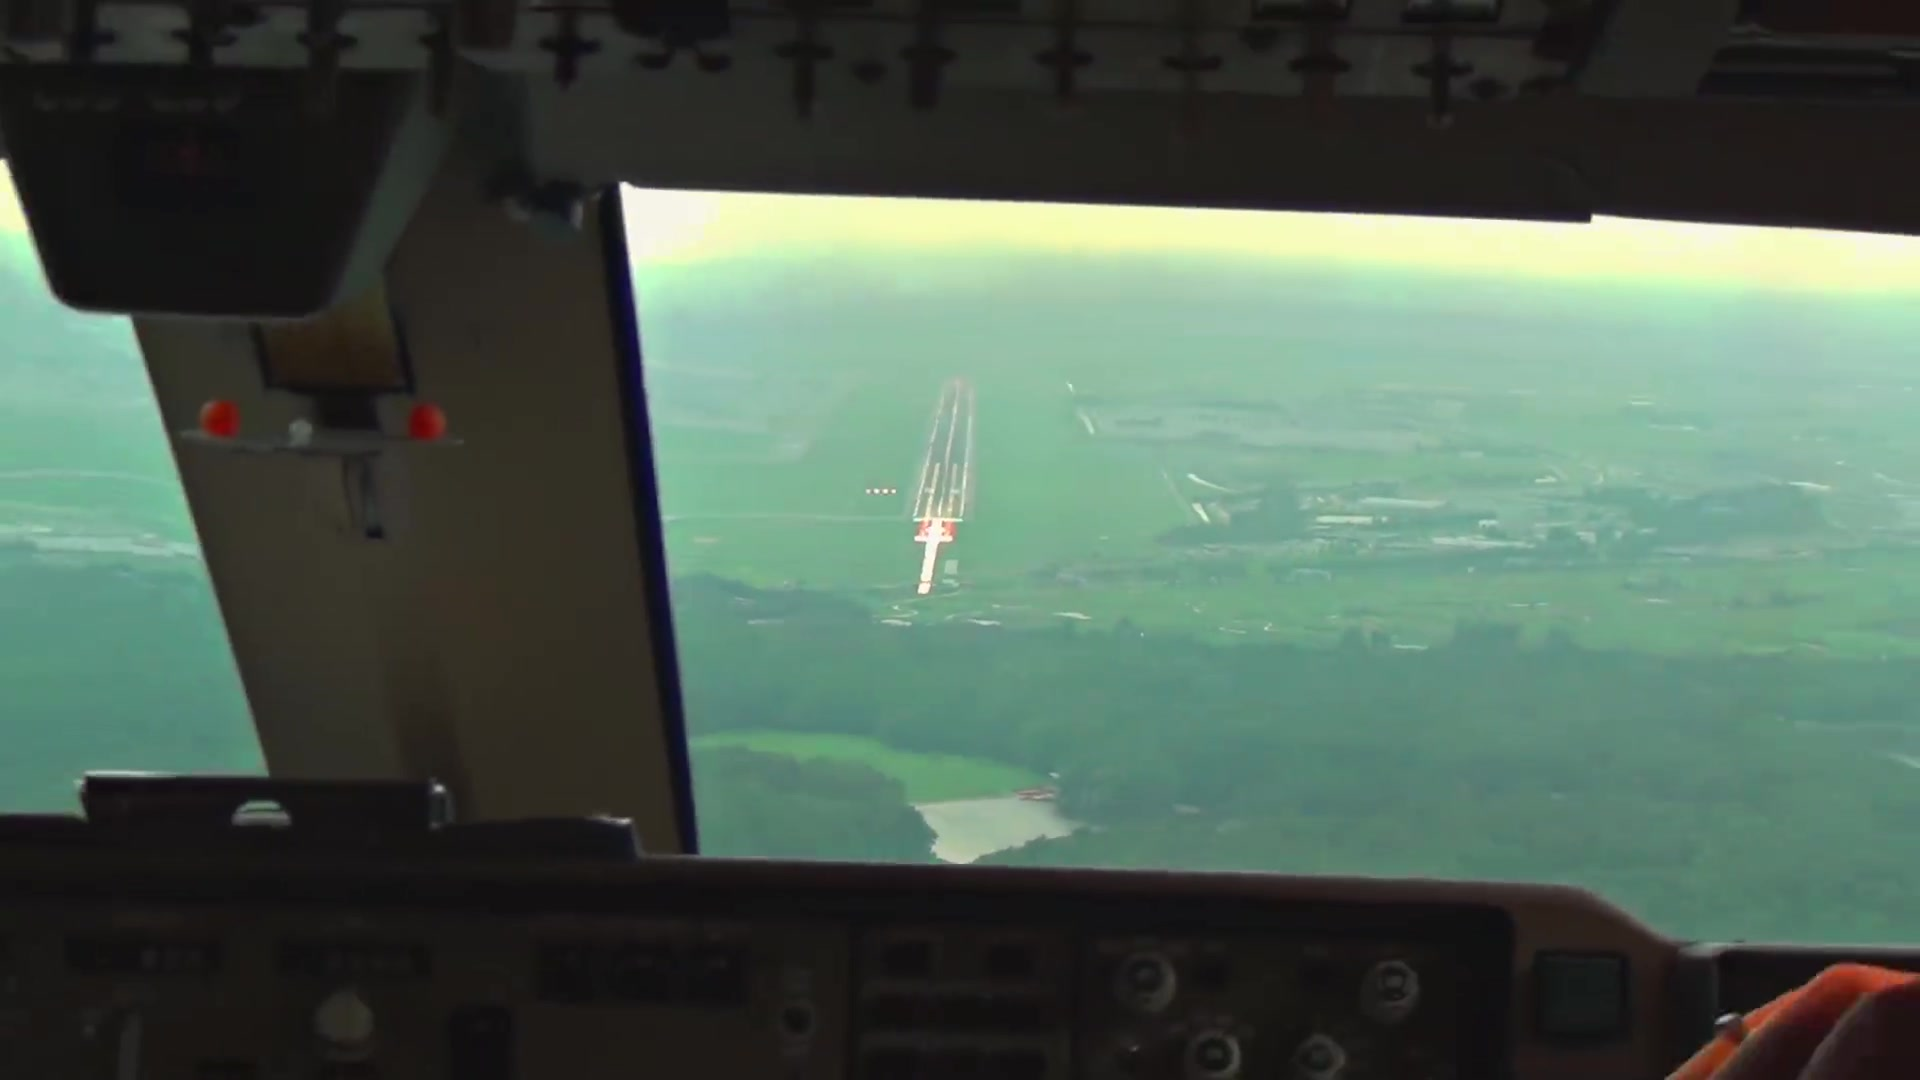runway: (911, 380, 973, 524)
